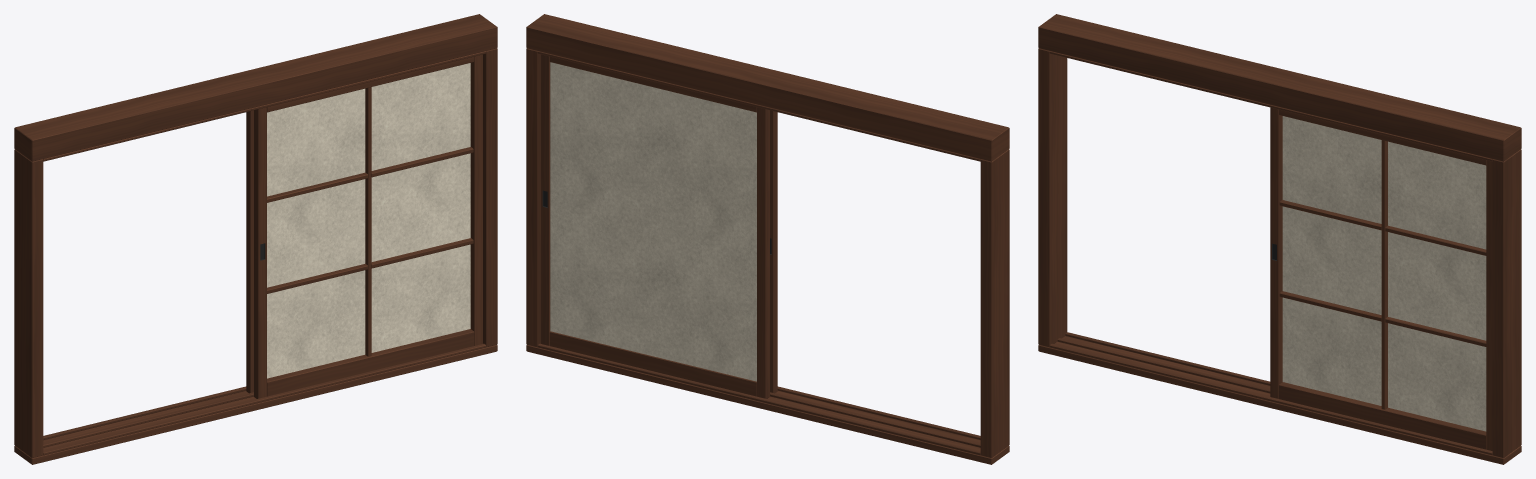
Rendered from 15B_Ventana_Der.fbx.
3 renders of one model, left to right at view 1: azimuth 30°, elevation 25°; view 2: azimuth 150°, elevation 25°; view 3: azimuth 330°, elevation 25°, orthographic.
Visible parts, largest first — view 1: SM_15B_Der_Hoja_Delantera, SM_15B_Der_Marco, SM_15B_Der_Hoja_Trasera; view 2: SM_15B_Der_Hoja_Trasera, SM_15B_Der_Marco, SM_15B_Der_Hoja_Delantera; view 3: SM_15B_Der_Hoja_Delantera, SM_15B_Der_Marco.
Part boxes in pixels (x1,y1,x2,y2): SM_15B_Der_Hoja_Delantera: (254,54,482,398); SM_15B_Der_Marco: (14,14,497,464); SM_15B_Der_Hoja_Trasera: (246,110,253,393); SM_15B_Der_Hoja_Trasera: (541,54,769,398); SM_15B_Der_Marco: (526,14,1009,464); SM_15B_Der_Hoja_Delantera: (770,110,777,393); SM_15B_Der_Hoja_Delantera: (1270,107,1492,450); SM_15B_Der_Marco: (1038,14,1521,464).
Bounding box in the file's own units: 1.8 × 1.2 × 0.12.
